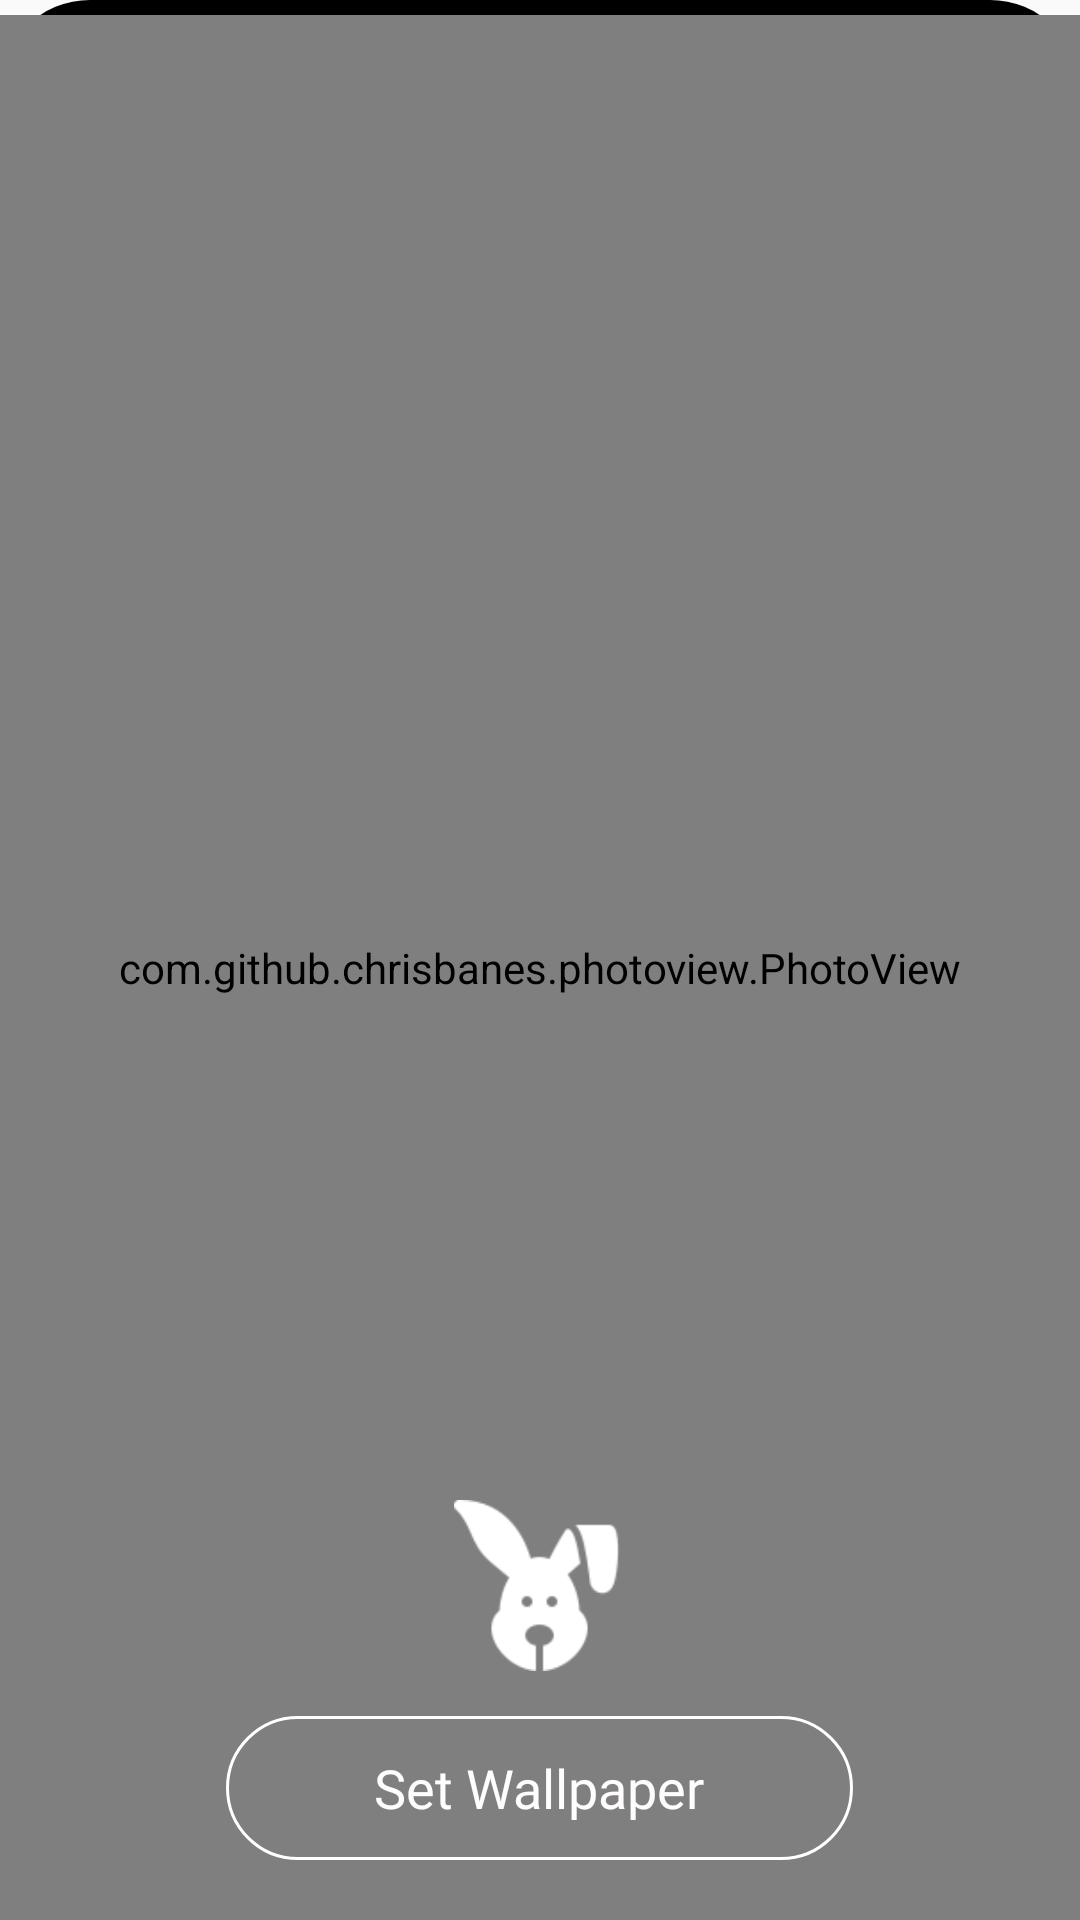

Screen size 1080×1920. Icon name, then its center in pixels as (x=x, y=y):
whitebunny: (x=536, y=1585)
